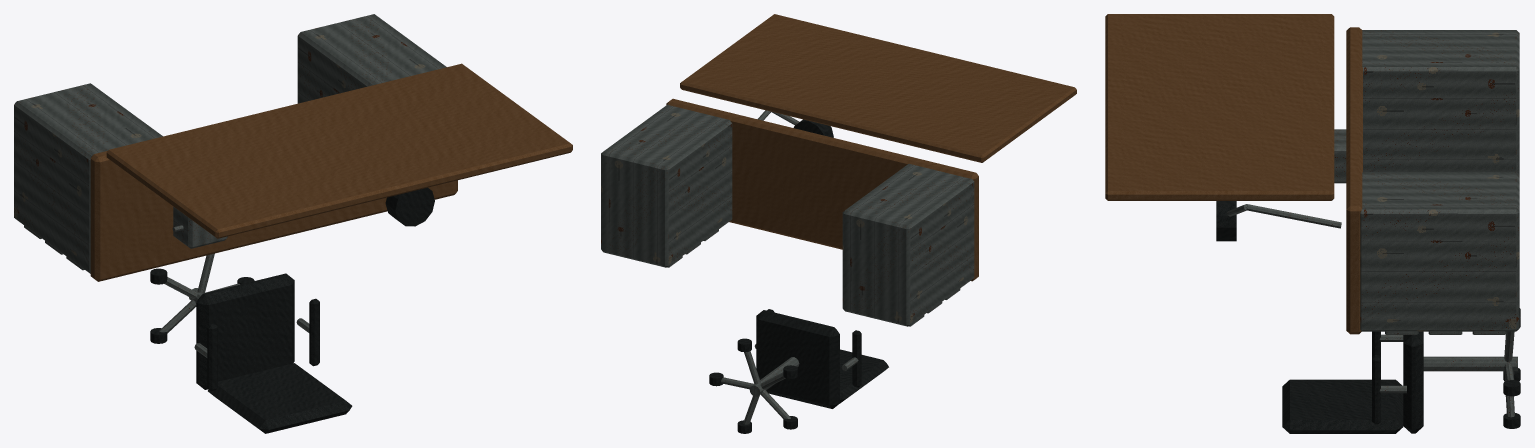
The model's file is kit-workbench.obj.
The picture shows the model from 3 angles, left to right: view 1: azimuth 30°, elevation 25°; view 2: azimuth 150°, elevation 25°; view 3: azimuth 270°, elevation 25°; orthographic projection. The views are drawn at different scales.
Parts seen in each view (by area): view 1: Reusable.workbench; view 2: Reusable.workbench; view 3: Reusable.workbench.
Boxes of the visible parts, box(x1,y1,x2,y2) form: Reusable.workbench: box(14, 14, 572, 433); Reusable.workbench: box(601, 14, 1076, 433); Reusable.workbench: box(1105, 14, 1520, 433).
Bounding box in the file's own units: 6.4 × 5.16 × 6.17.
Materials: 4 (4 with a texture image).
